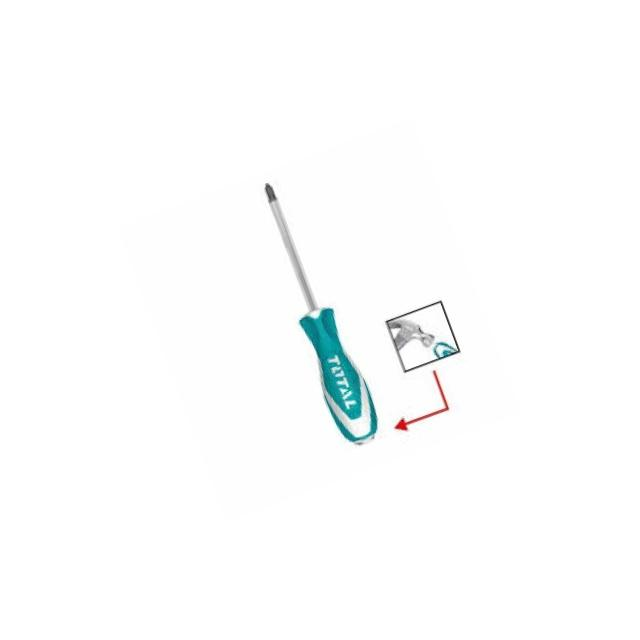screwdriver: (242, 172, 389, 454)
